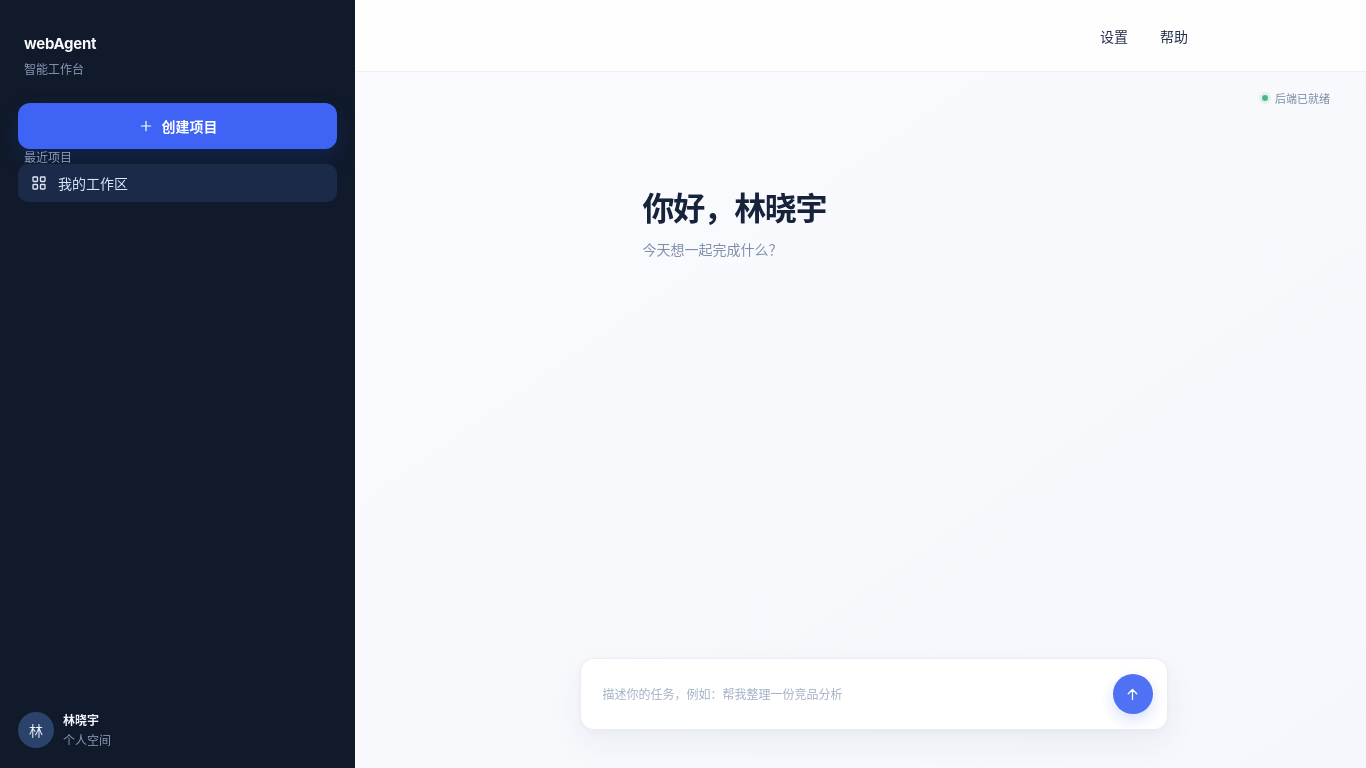
Test: 账户设置 › 保存失败时显示未知后端错误的 HTTP 状态
The image size is (1366, 768).
Click the button with aria-label "打开账户设置": (36, 730) x1=18 y1=703 x2=337 y2=748
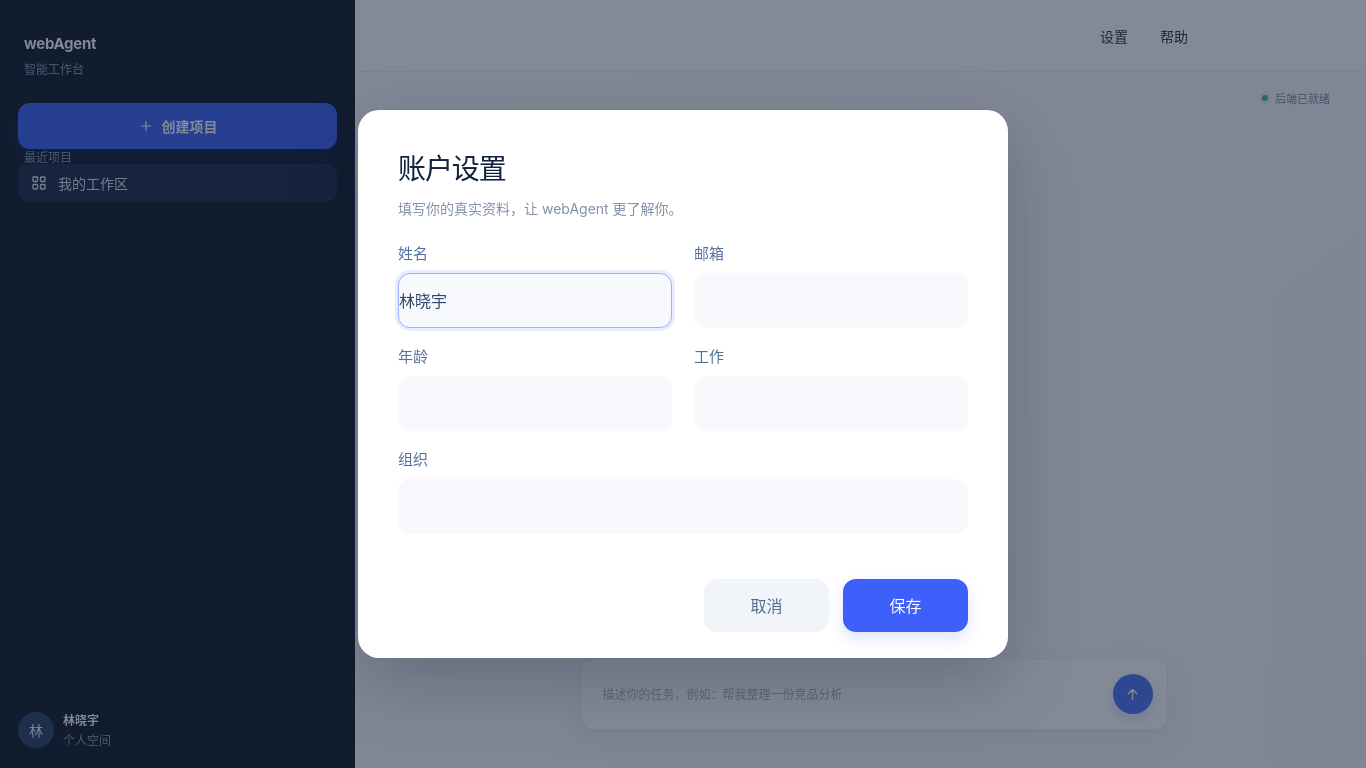
Click the button "保存": (906, 605) x1=843 y1=579 x2=968 y2=632
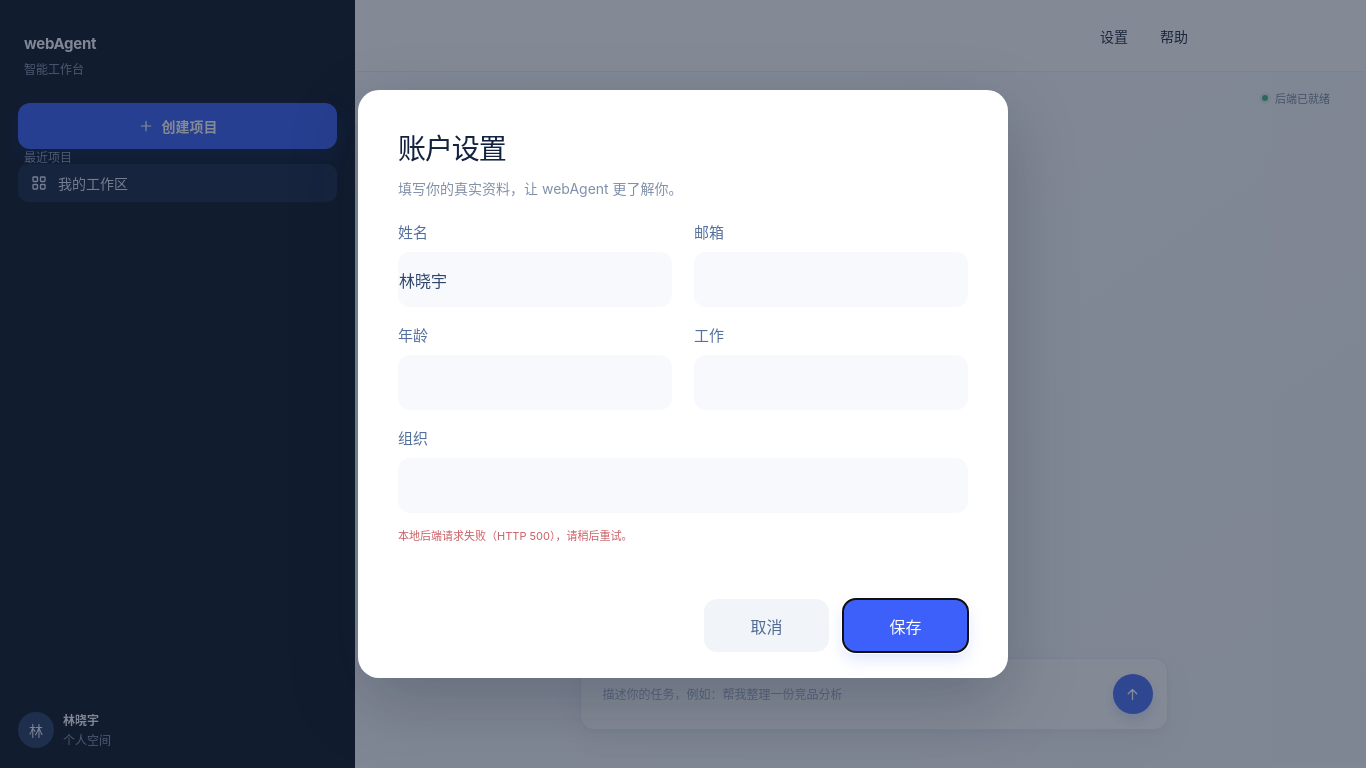
Check: the message reads "本地后端请求失败（HTTP 500），请稍后重试。", box x1=398 y1=529 x2=632 y2=543
